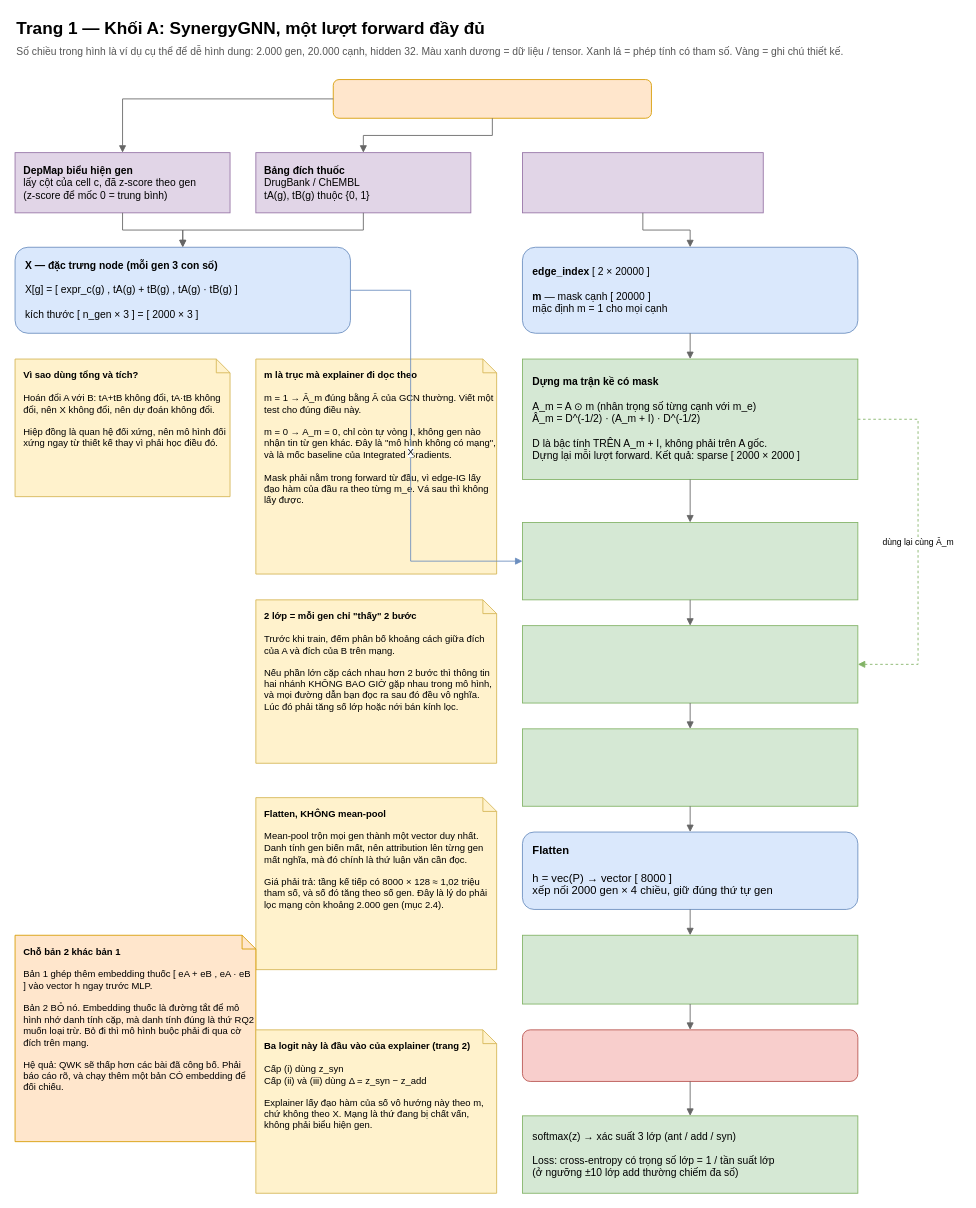
This 976x1208 diagram has some shape labels left out. Here are the shapes that lost their labels. From the top down, the centre of each, then its label:
the point at 491,98: Một mẫu = bộ ba (thuốc A, thuốc B, cell line c)
the point at 642,182: STRING v12 combined_score ≥ 700 lọc 2 bước quanh tập đích thuốc
the point at 690,561: GCN lớp 1 H1 = ReLU( Â_m · X · W1 ) W1 [ 3 × 32 ] → H1 [ 2000 × 32 ]
the point at 690,664: GCN lớp 2 H2 = ReLU( Â_m · H1 · W2 ) W2 [ 32 × 32 ] → H2 [ 2000 × 32 ]
the point at 690,767: Chiếu từng gen xuống 4 chiều P = H2 · W3 W3 [ 32 × 4 ] → P [ 2000 × 4 ]
the point at 690,969: MLP đầu đọc 8000 → 128 (ReLU, dropout 0,3) → 3
the point at 690,1055: z = ( z_ant , z_add , z_syn ) [ 3 ]
